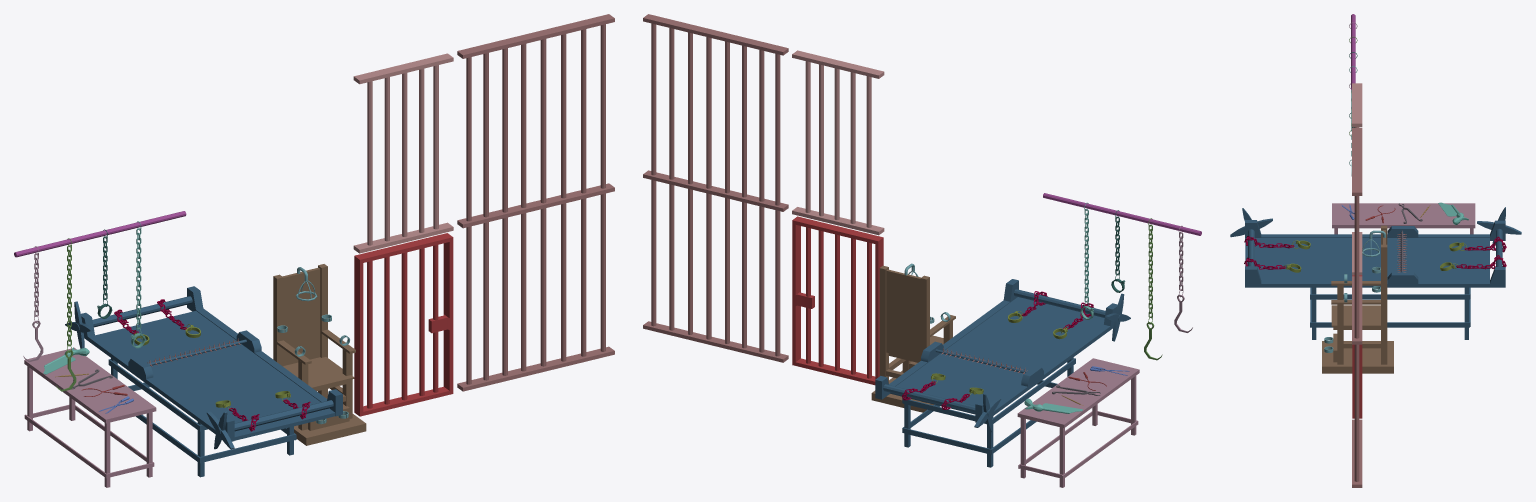
Rendered from Bungalow_TortureAssets_UVDone.fbx.
3 views of the same model, side by side, from view 1: azimuth 30°, elevation 25°; view 2: azimuth 150°, elevation 25°; view 3: azimuth 270°, elevation 25° (orthographic). The views are drawn at different scales.
Visible parts, largest first — view 1: TortureBed, JailBar_TopAndBottom, JailDoor, TortureChair, ToolTable, JailBar_Top, WallChain_Pipe, WallSpike_Long, WallChain_Long; view 2: TortureBed, JailBar_TopAndBottom, JailDoor, ToolTable, JailBar_Top, TortureChair, WallChain_Pipe, WallSpike_Long; view 3: TortureBed, TortureChair, ToolTable, JailBar_TopAndBottom, JailBar_Top, JailDoor, WallChain_Pipe.
Part boxes in pixels (x1=…): TortureBed: x1=65, y1=286, x2=342, y2=477; JailBar_TopAndBottom: x1=457, y1=14, x2=614, y2=391; JailDoor: x1=354, y1=233, x2=453, y2=416; TortureChair: x1=273, y1=264, x2=366, y2=445; ToolTable: x1=24, y1=347, x2=156, y2=487; JailBar_Top: x1=353, y1=53, x2=453, y2=253; WallChain_Pipe: x1=14, y1=211, x2=186, y2=257; WallSpike_Long: x1=56, y1=238, x2=76, y2=391; WallChain_Long: x1=130, y1=221, x2=145, y2=348; TortureBed: x1=875, y1=279, x2=1130, y2=467; JailBar_TopAndBottom: x1=643, y1=14, x2=788, y2=362; JailDoor: x1=792, y1=216, x2=883, y2=385; ToolTable: x1=1017, y1=358, x2=1139, y2=487; JailBar_Top: x1=792, y1=50, x2=884, y2=235; TortureChair: x1=871, y1=263, x2=955, y2=412; WallChain_Pipe: x1=1043, y1=193, x2=1201, y2=235; WallSpike_Long: x1=1144, y1=218, x2=1162, y2=360; TortureBed: x1=1230, y1=207, x2=1521, y2=339; TortureChair: x1=1322, y1=225, x2=1393, y2=373; ToolTable: x1=1332, y1=202, x2=1475, y2=234; JailBar_TopAndBottom: x1=1352, y1=127, x2=1362, y2=487; JailBar_Top: x1=1352, y1=83, x2=1362, y2=275; JailDoor: x1=1352, y1=275, x2=1362, y2=418; WallChain_Pipe: x1=1351, y1=14, x2=1355, y2=89.
Size of the model in its own units: 59.51 by 31.95 by 28.57.
